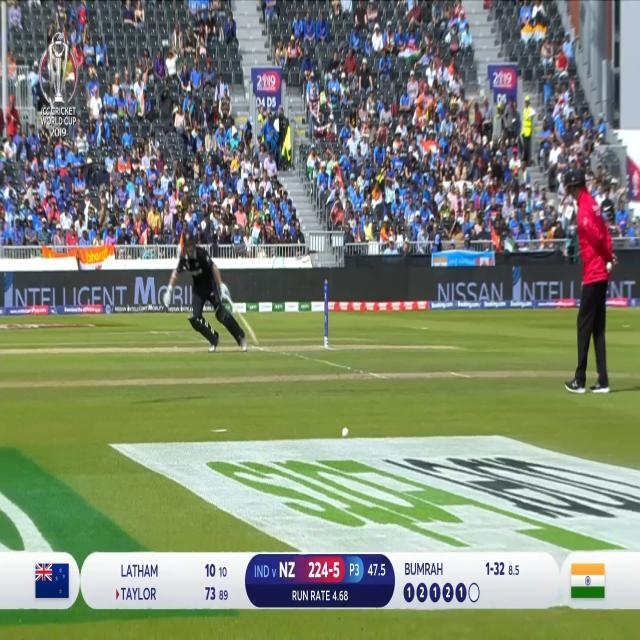ball: (339, 422, 352, 442)
